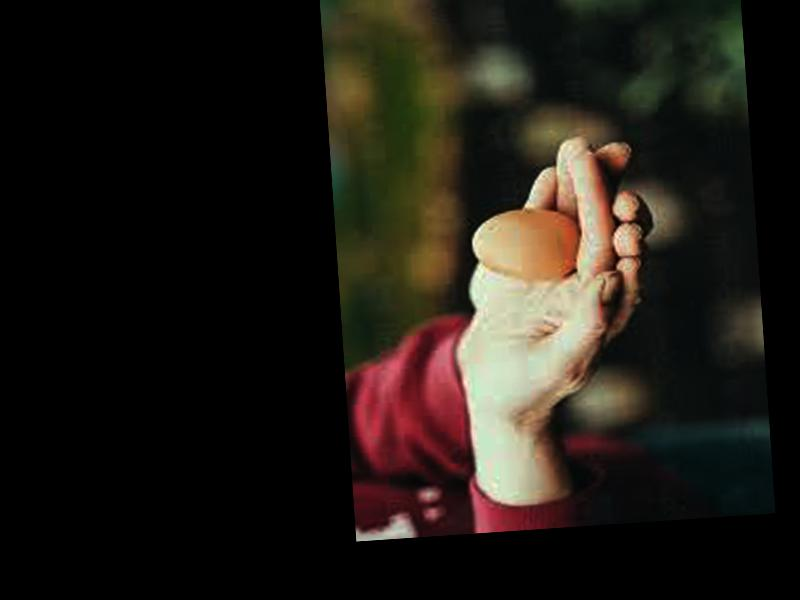Eggs: (470, 206, 580, 284)
